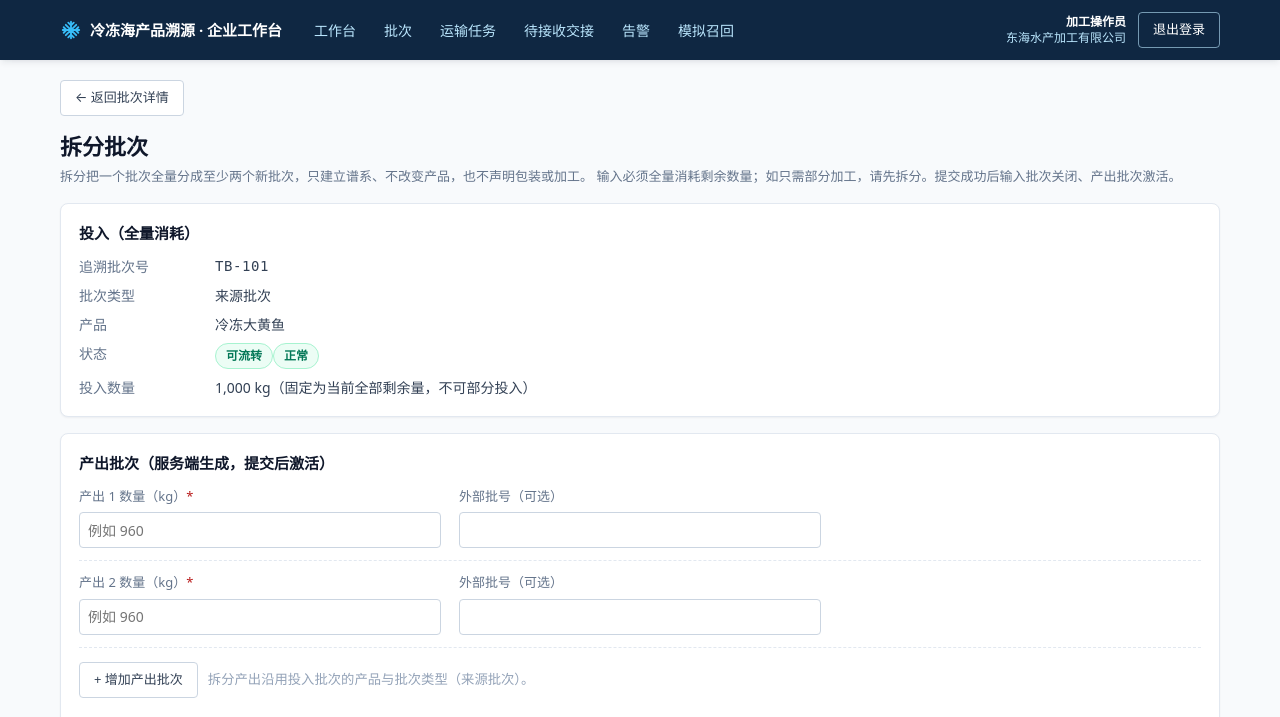
Test: BatchOperationDetailView › lets the owner delete a draft, which removes its output drafts and returns to the input batch
In the field with test id "output-quantity-0": x=260, y=530 [79,512,441,548], type "500"
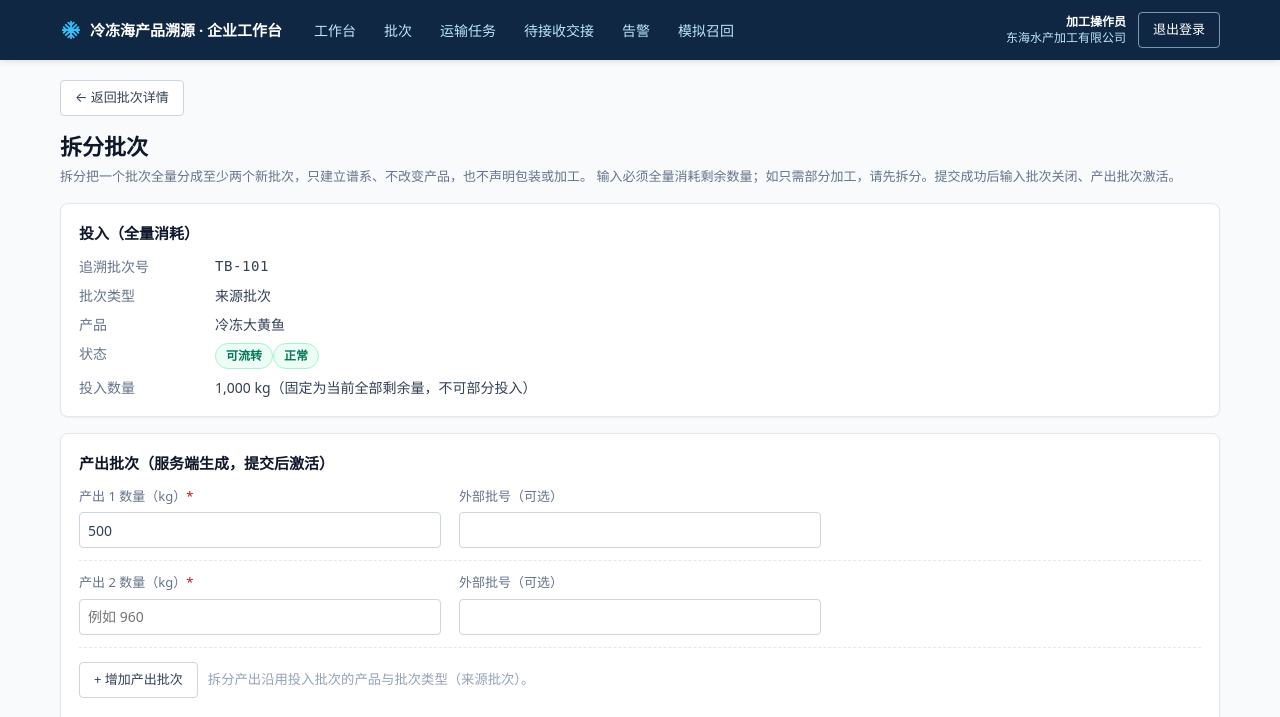
In the field with test id "output-quantity-1": x=260, y=616 [79,598,441,634], type "500"
(page scrolled)
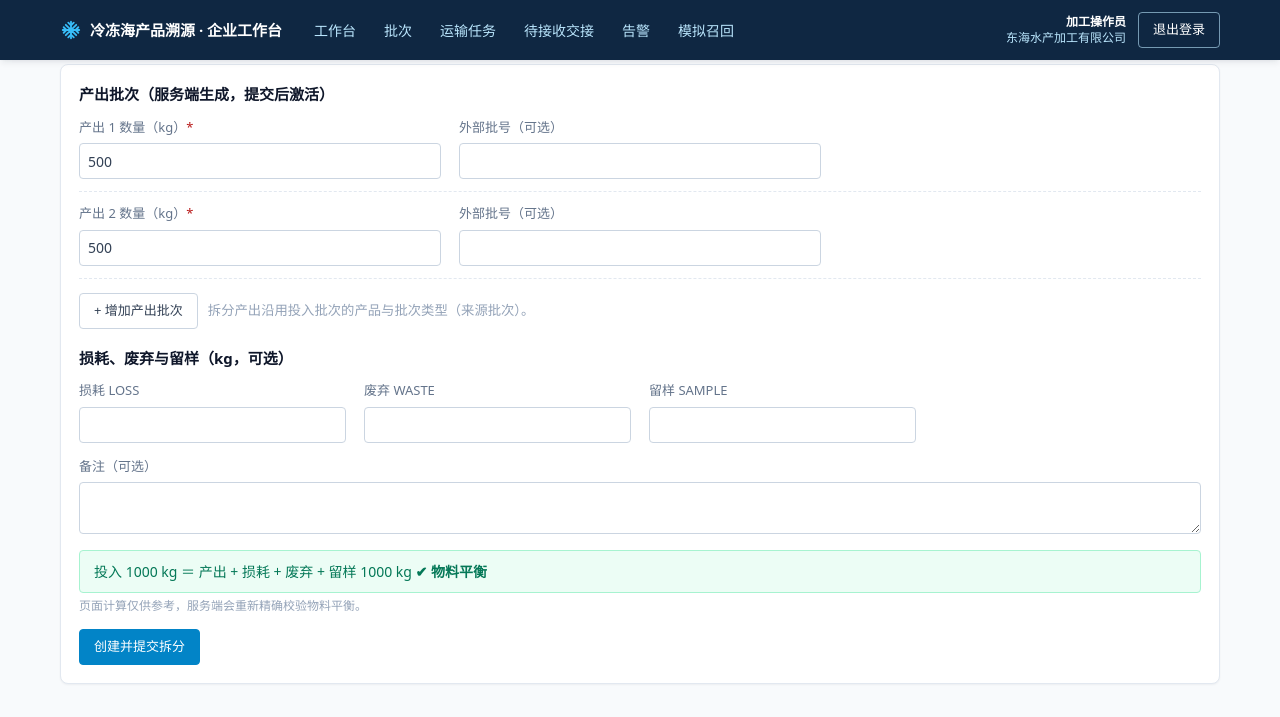
Submit the form with test id "wizard-form"
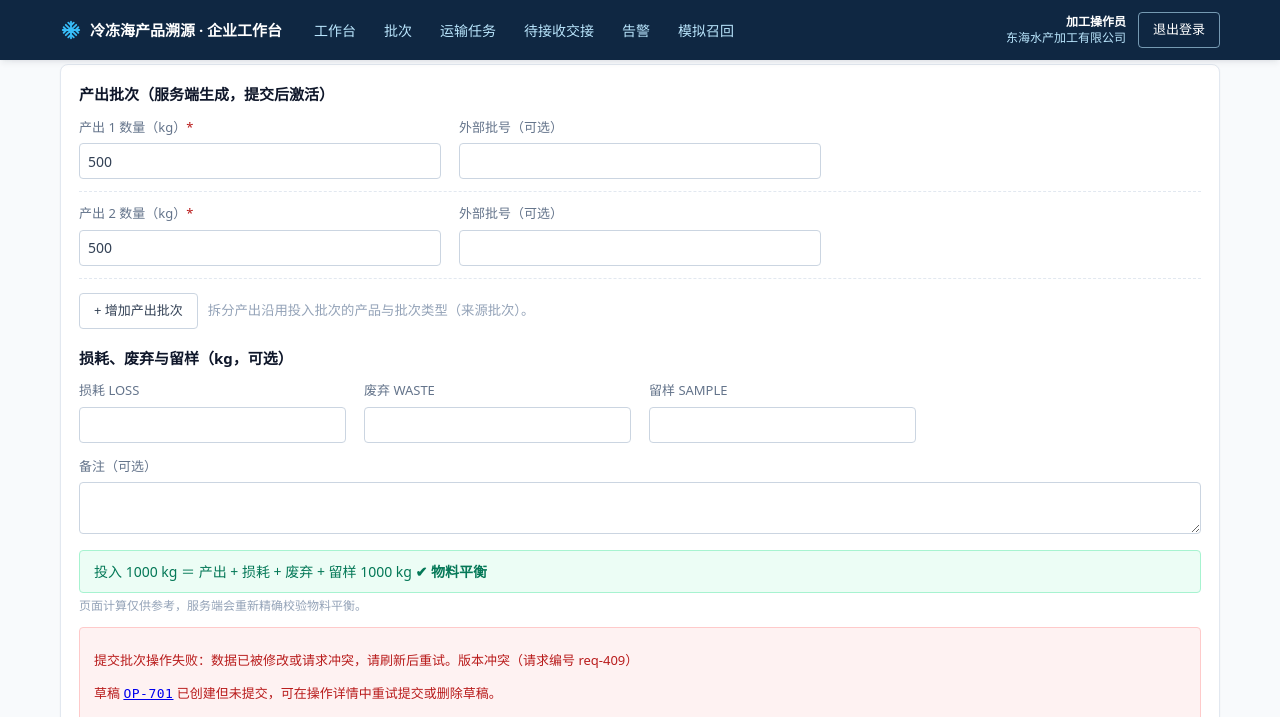
Click the link with test id "wizard-draft-link": x=148, y=693 [123,686,174,700]
(page scrolled)
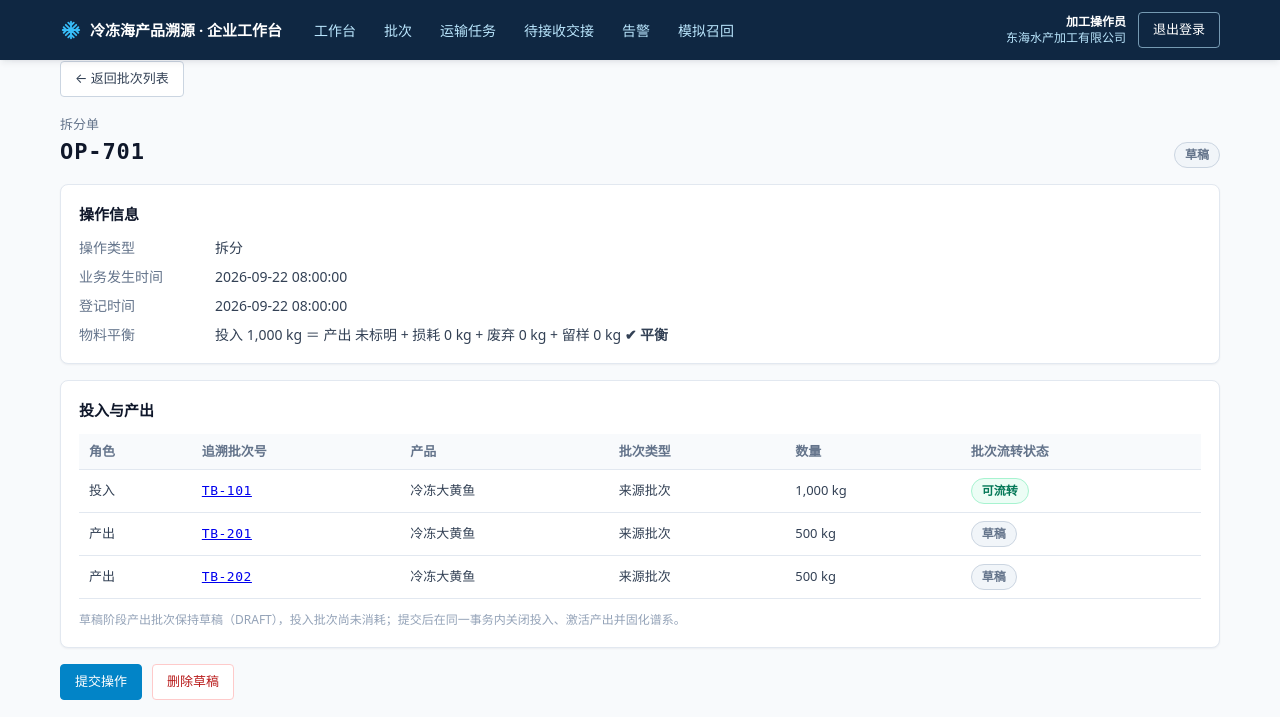
Click the button with test id "operation-delete": x=193, y=682 [152,664,234,700]
(page scrolled)
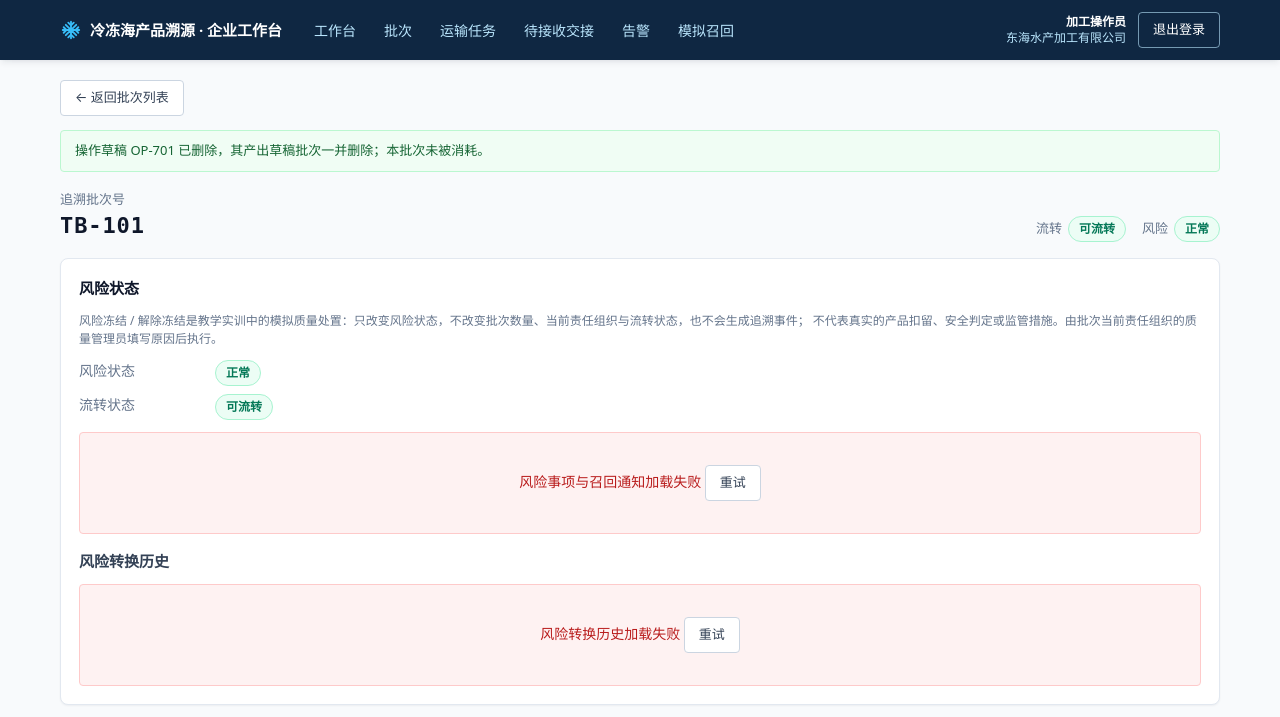
Check: the message with test id "batch-flash" shows "已删除", box [75,141,490,159]
